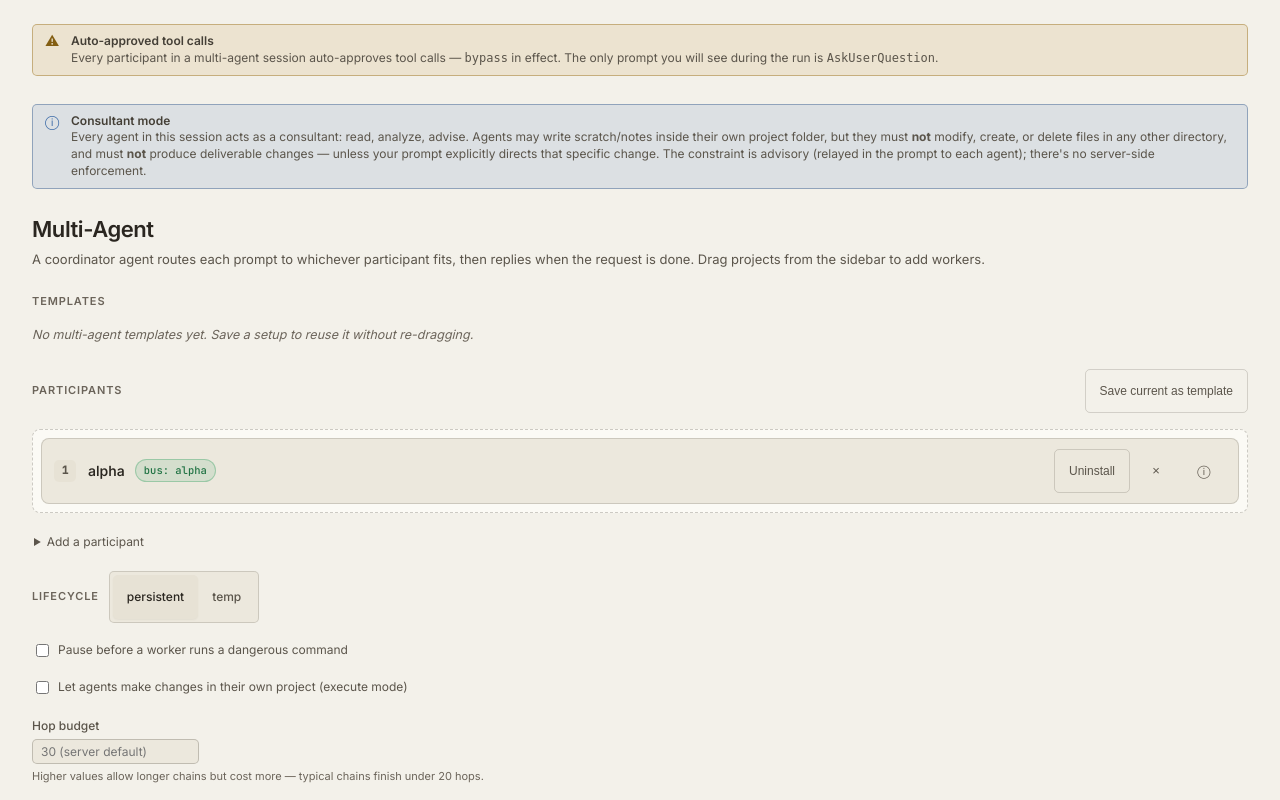
bus uninstall is gated (U15) › clicking Uninstall opens a dialog and does NOT uninstall yet
The image size is (1280, 800).
Click the button "Uninstall": point(1092, 470) [1054,448,1130,492]
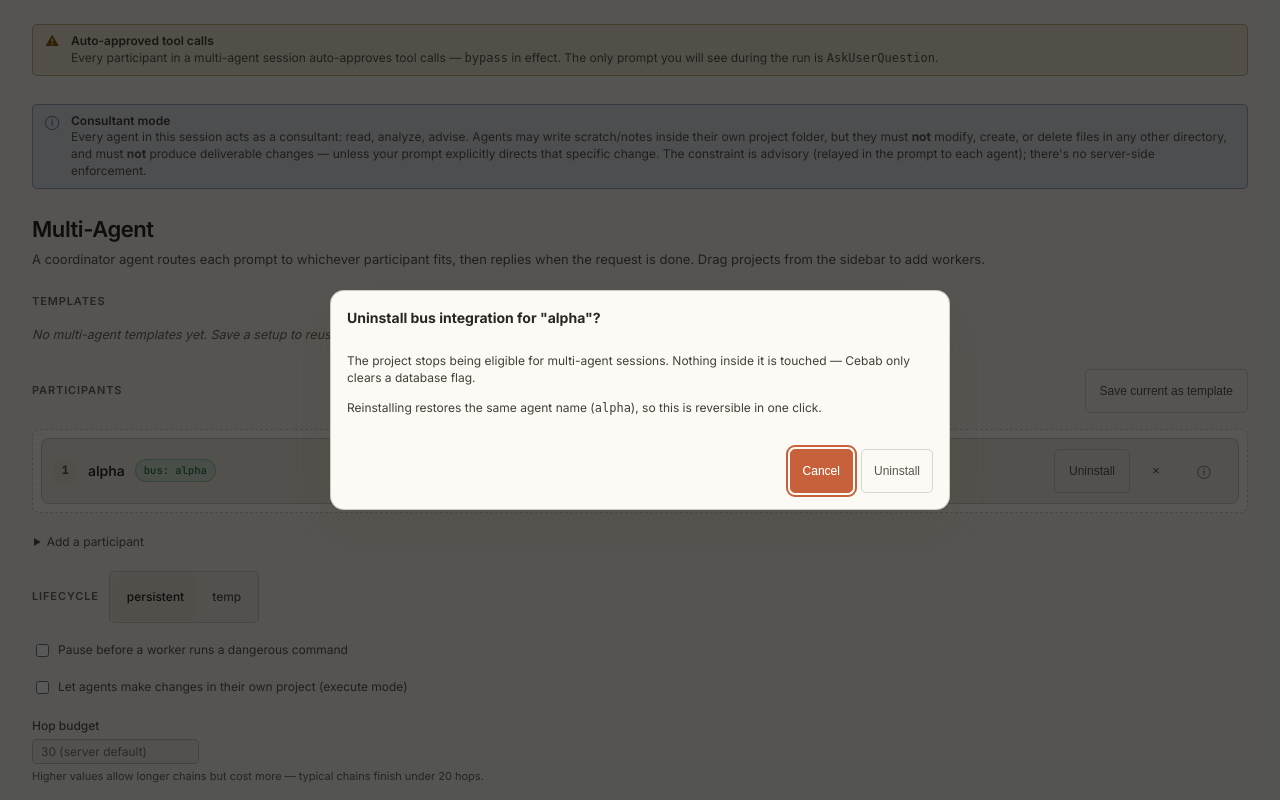
Expected: the dialog with class "gate-modal-overlay" is shown
